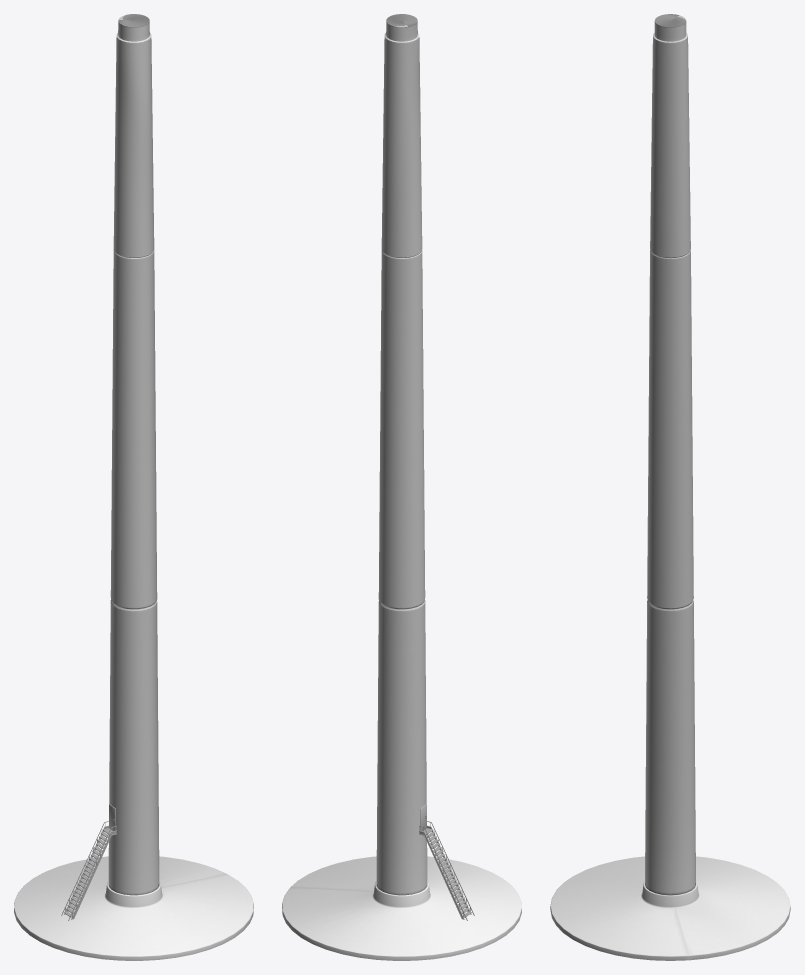
Rendered from Wind_Turbin_Stand.fbx.
The picture shows the model from 3 angles, left to right: view 1: azimuth 30°, elevation 25°; view 2: azimuth 150°, elevation 25°; view 3: azimuth 270°, elevation 25°; orthographic projection.
Visible parts, largest first — view 1: body, Plane.021; view 2: body, Plane.021; view 3: body.
Boxes of the visible parts, x1,y1,x2,y2 form: body: (14, 14, 253, 960); Plane.021: (64, 825, 116, 919); body: (282, 14, 521, 960); Plane.021: (419, 825, 471, 919); body: (550, 14, 790, 960).
Bounding box in the file's own units: 1955 × 7995 × 1955.
